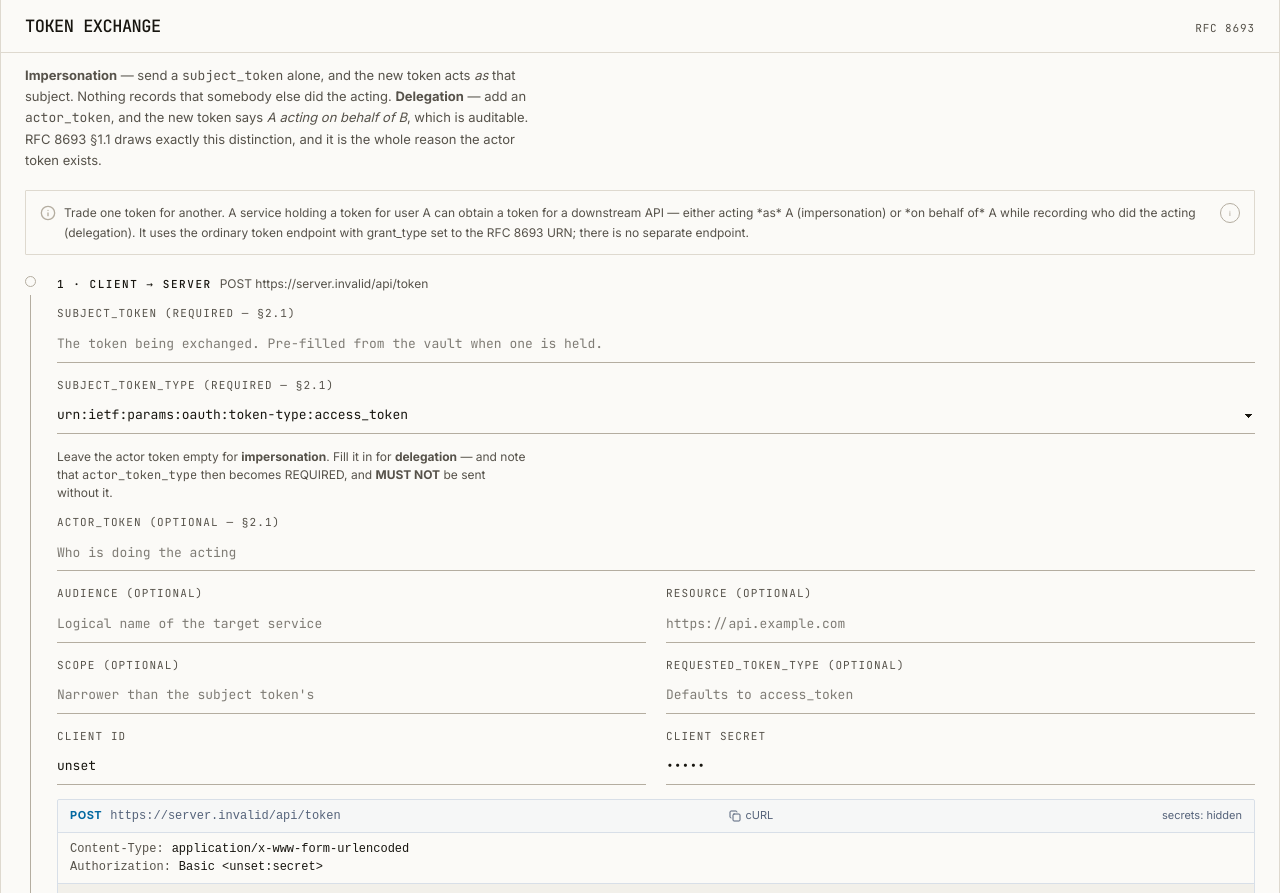
Test: the deliberate defects are reported as deliberate › reports the missing lifetime when the token outlives an hour
Replace the text in the field labelled "subject_token (REQUIRED — §2.1)" with "subject-at" at (656, 345), box [57,327,1255,363]
(page scrolled)
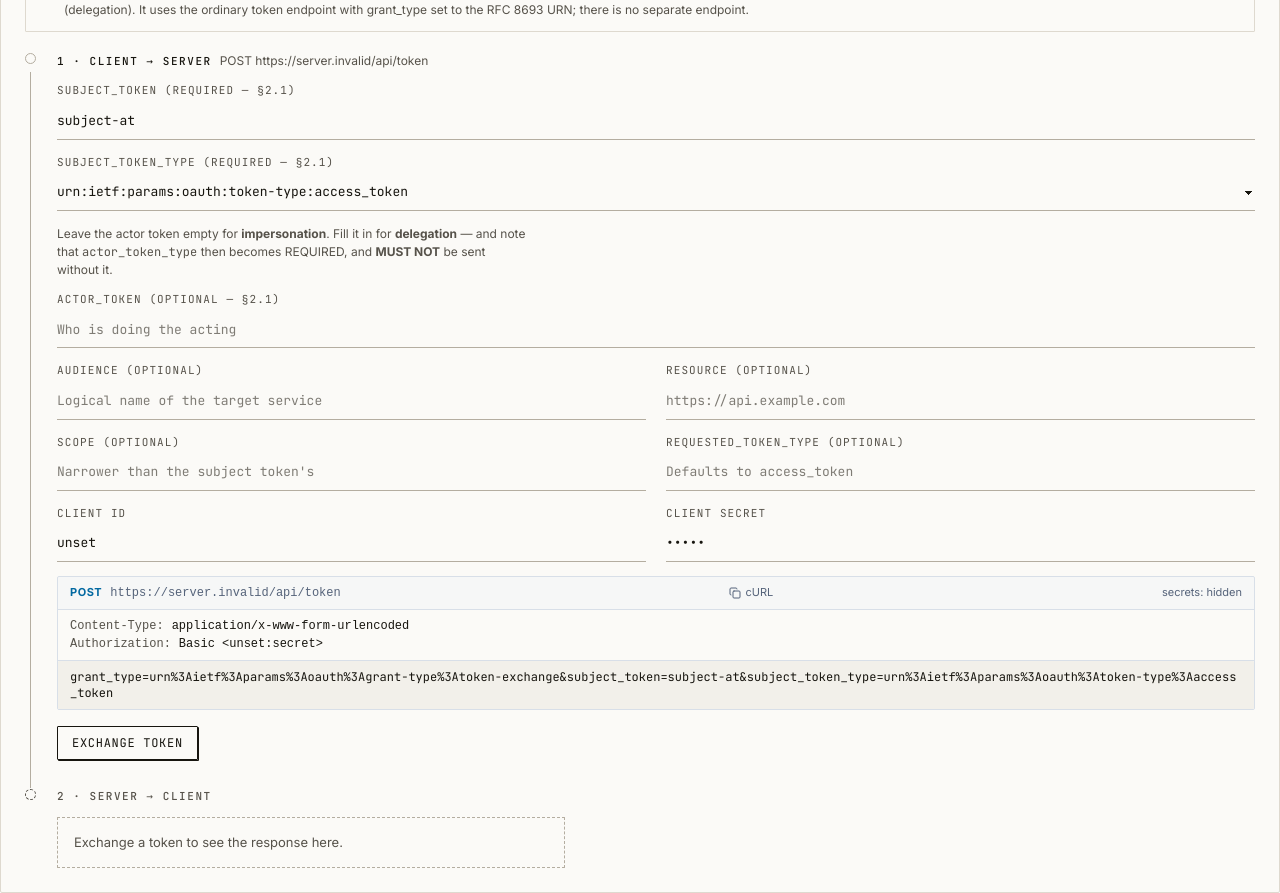
Click the button "Exchange token" at (127, 743), box [57,726,198,760]
(page scrolled)
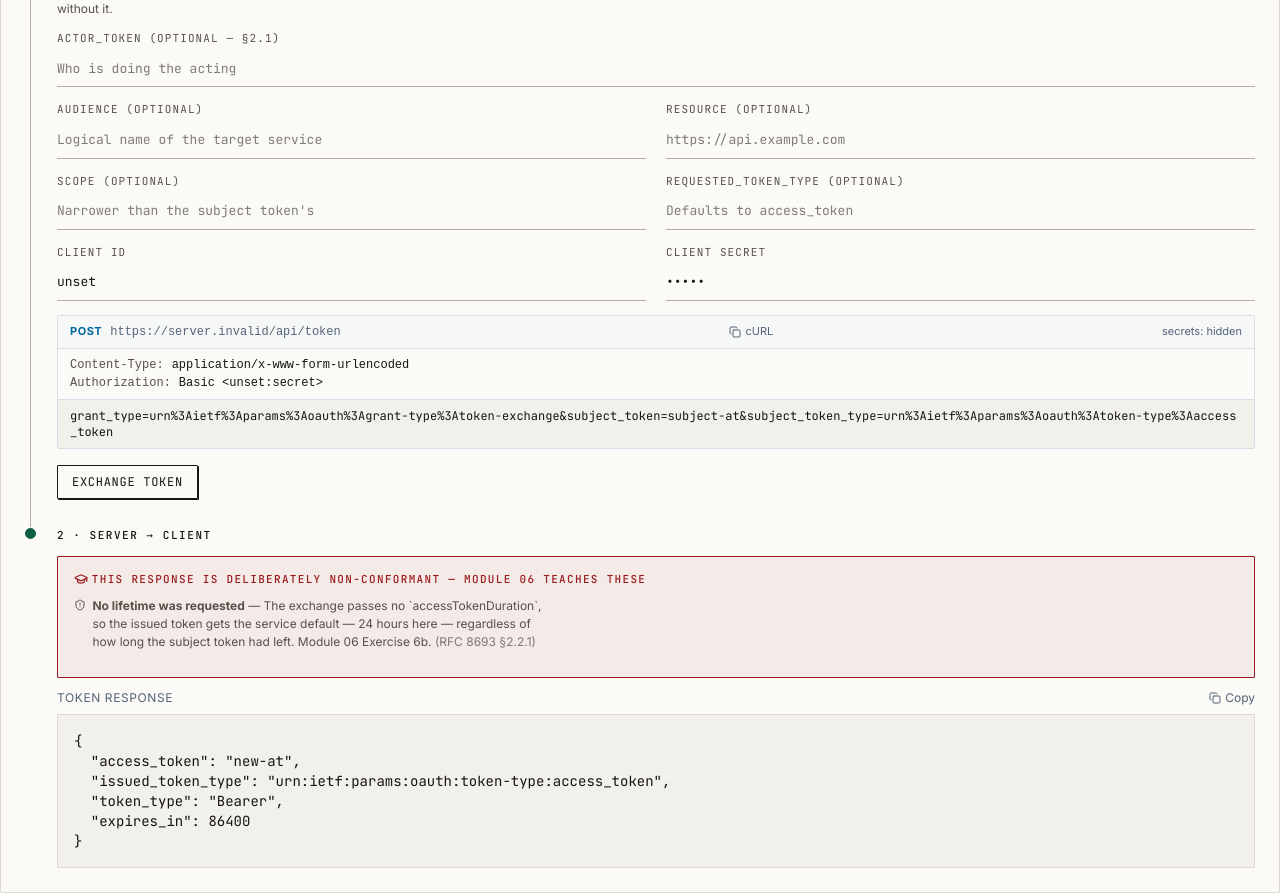
Now the text "deliberately non-conformant" is shown, box [92,572,646,586]
Now the text "No lifetime was requested" is shown, box [92,598,245,613]
Now the text "24 hours" is shown, box [92,598,542,649]
